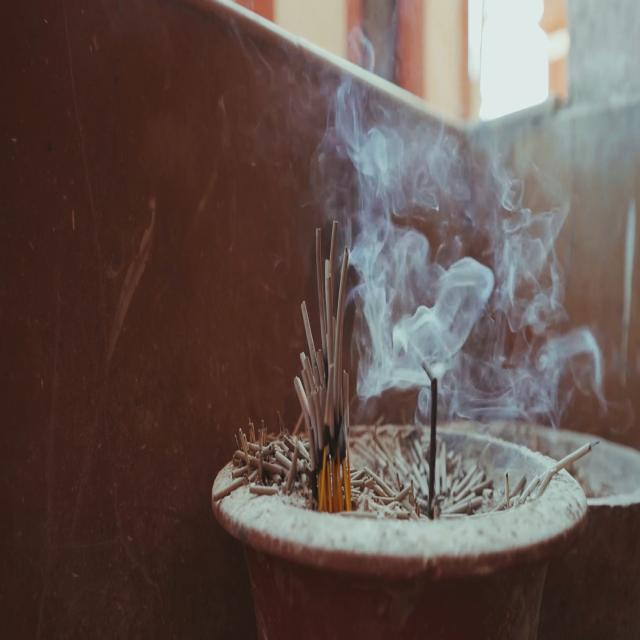fire: (310, 0, 640, 440)
